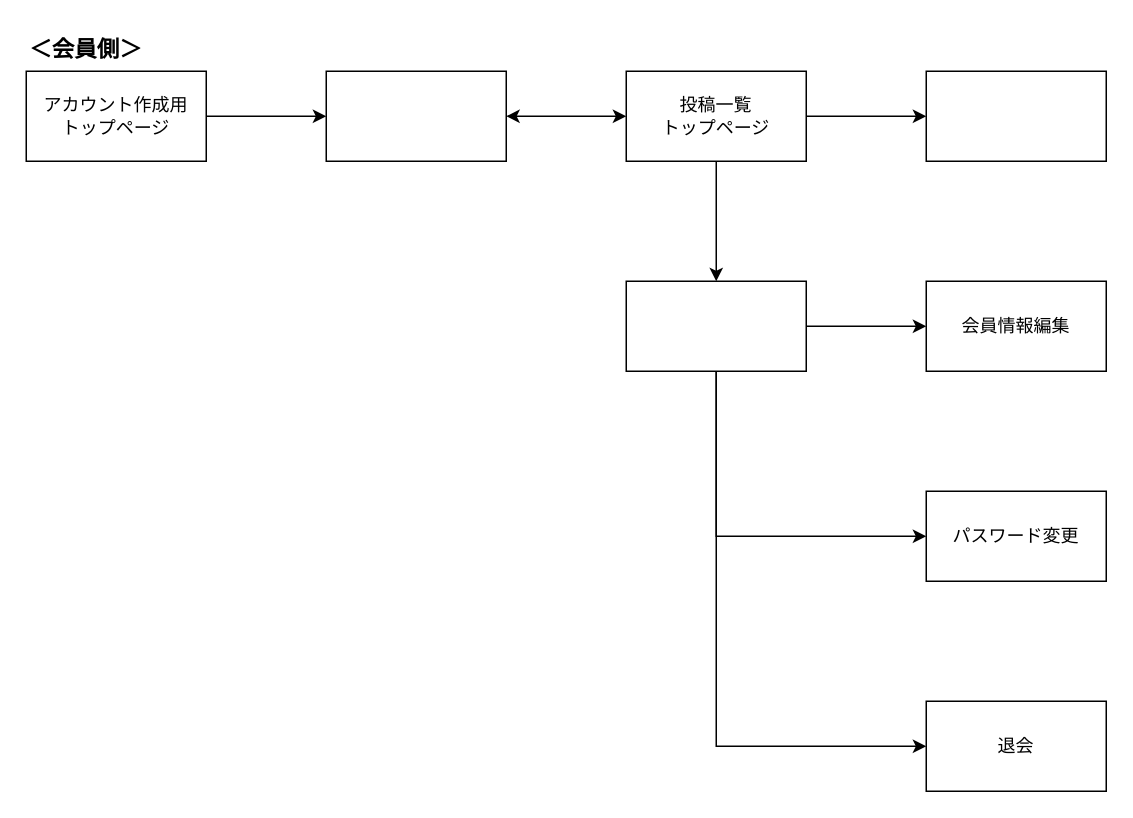
This 1133x818 diagram has some shape labels left out. The centre of each missing label's shape, as x and y in pixels:
"マイページ" goes at point (715, 325).
"ログインページ" goes at point (415, 115).
"投稿詳細ページ" goes at point (1015, 115).
